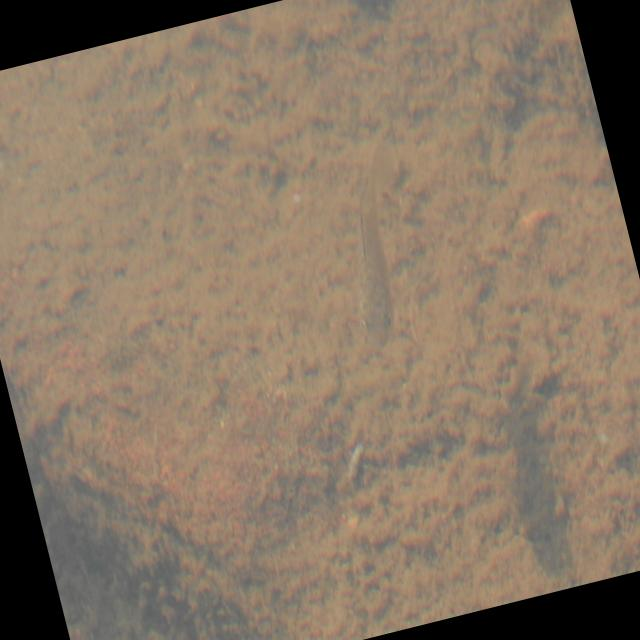Gunes Levregi: (315, 127, 450, 356)
